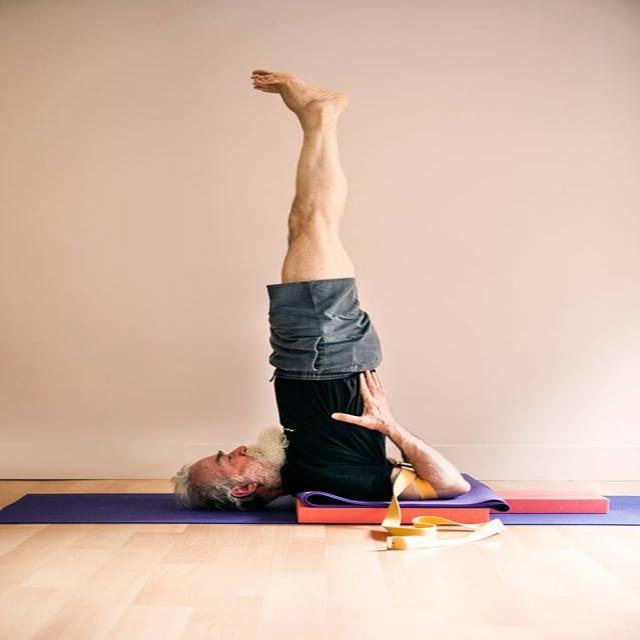yoga-pose shoulderstand: (162, 61, 480, 512)
